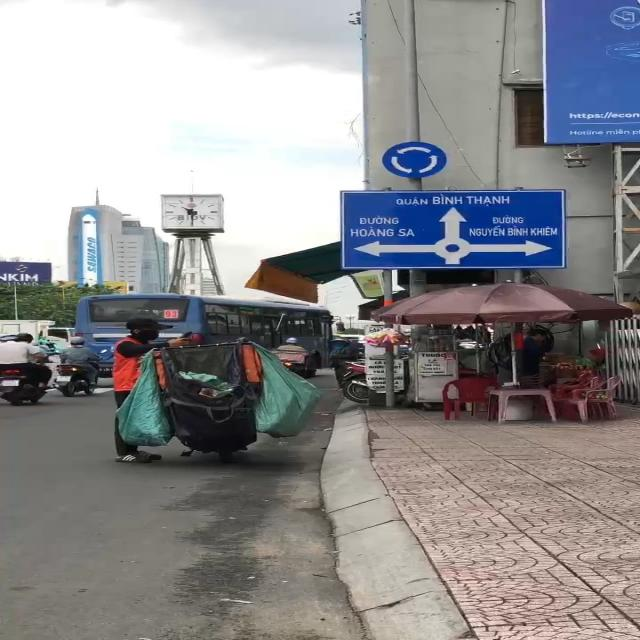Bien bao noi giao nhau chay theo vong xuyen: (374, 136, 448, 180)
